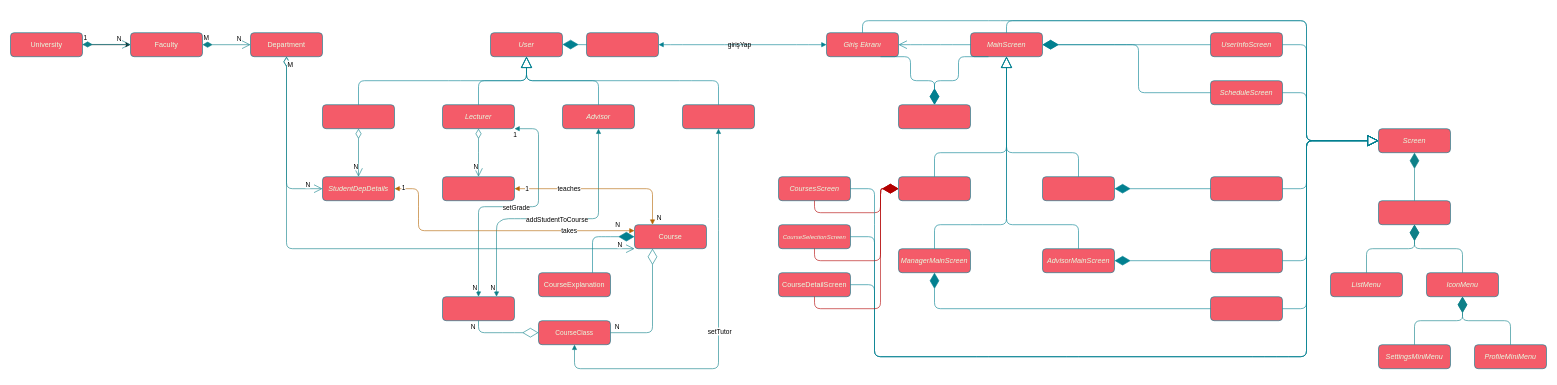
Image size: 1557x385. Some labels were removed from this diagram. Here are the shapes that lost their labels. From the top down, the centre of each, then its label:
At pixel 622 44: "LogInInfo".
At pixel 358 116: "Student".
At pixel 718 116: "Administrator".
At pixel 934 116: "System".
At pixel 478 188: "LecturerDepDetails".
At pixel 934 188: "StudentMainScreen".
At pixel 1078 188: "LecturerMainScreen".
At pixel 1246 188: "GradeEntryScreen".
At pixel 1414 212: "Header".
At pixel 1246 260: "ApplicationsScreen".
At pixel 478 308: "StudentCourseDetails".
At pixel 1246 308: "MatchCourseScreen".
